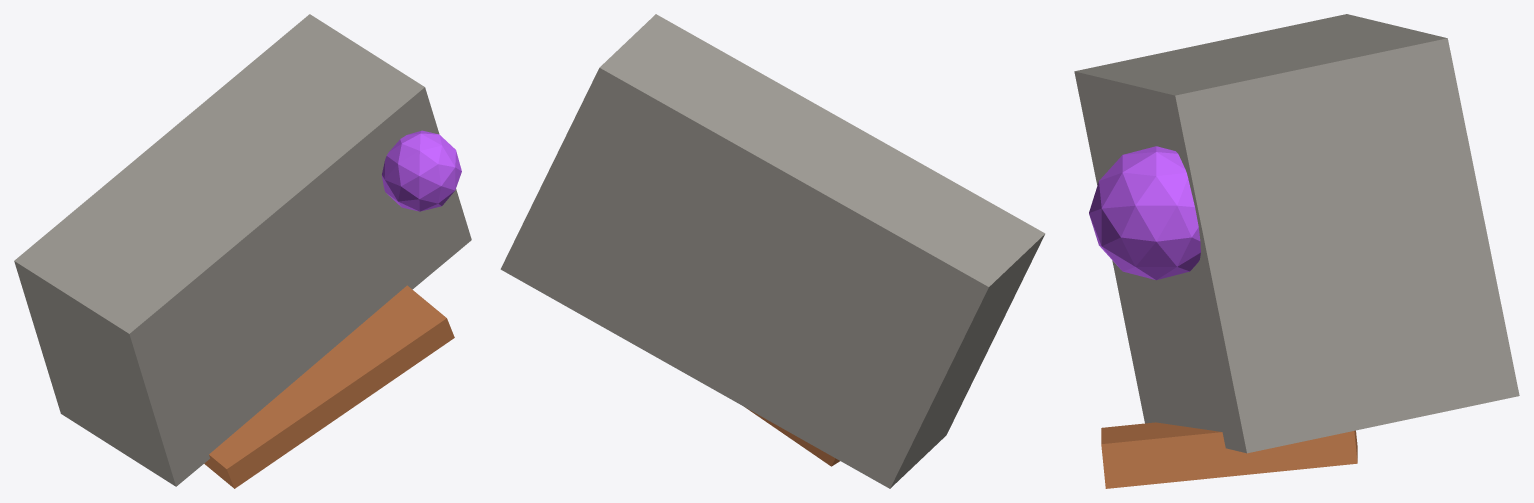
The model's file is floating_debris_chunk.glb.
3 renders of one model, left to right at view 1: azimuth 30°, elevation 25°; view 2: azimuth 150°, elevation 25°; view 3: azimuth 270°, elevation 25°, orthographic. The views are drawn at different scales.
Visible parts, largest first — view 1: chunk, plate, glow; view 2: chunk, plate; view 3: chunk, glow, plate.
Boxes of the visible parts, x1,y1,x2,y2 form: chunk: [14, 14, 471, 486]; plate: [204, 285, 454, 488]; glow: [382, 130, 461, 211]; chunk: [500, 14, 1045, 488]; plate: [745, 407, 839, 466]; chunk: [1074, 14, 1519, 453]; glow: [1089, 146, 1200, 280]; plate: [1101, 422, 1357, 488].
Bounding box in the file's own units: 1.43 × 1.13 × 0.7915.
